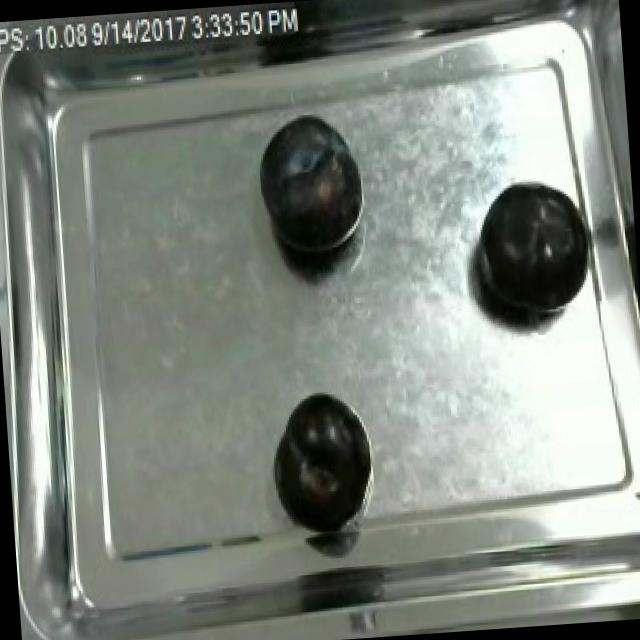Fruit: (462, 170, 595, 334), (249, 101, 368, 272), (262, 382, 370, 537)
